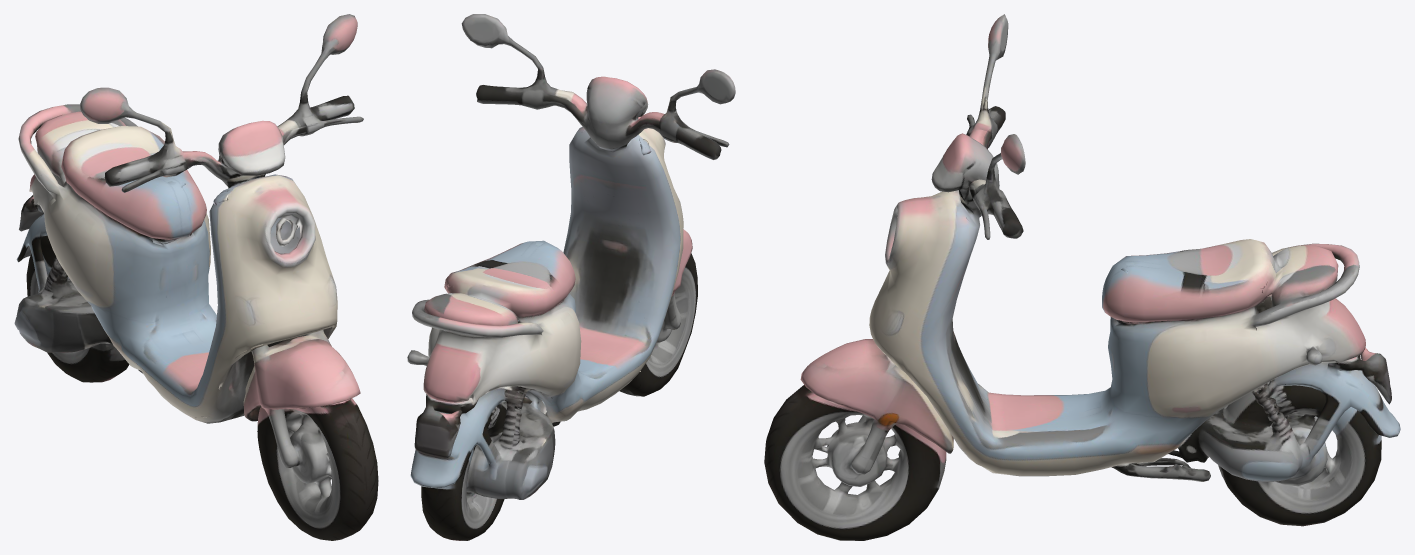
File: scooter.glb
3 renders of one model, left to right at view 1: azimuth 30°, elevation 25°; view 2: azimuth 150°, elevation 25°; view 3: azimuth 270°, elevation 25°, orthographic. The views are drawn at different scales.
Parts seen in each view (by area): view 1: tripo_node_b15e7ace-8ee0-484b-b303-cbc94f1892ac; view 2: tripo_node_b15e7ace-8ee0-484b-b303-cbc94f1892ac; view 3: tripo_node_b15e7ace-8ee0-484b-b303-cbc94f1892ac.
Boxes of the visible parts, x1,y1,x2,y2 form: tripo_node_b15e7ace-8ee0-484b-b303-cbc94f1892ac: (14, 14, 378, 540); tripo_node_b15e7ace-8ee0-484b-b303-cbc94f1892ac: (407, 14, 735, 540); tripo_node_b15e7ace-8ee0-484b-b303-cbc94f1892ac: (764, 14, 1400, 540).
Bounding box in the file's own units: 0.5353 × 0.7831 × 0.9975.
Materials: 1 (1 with a texture image).
